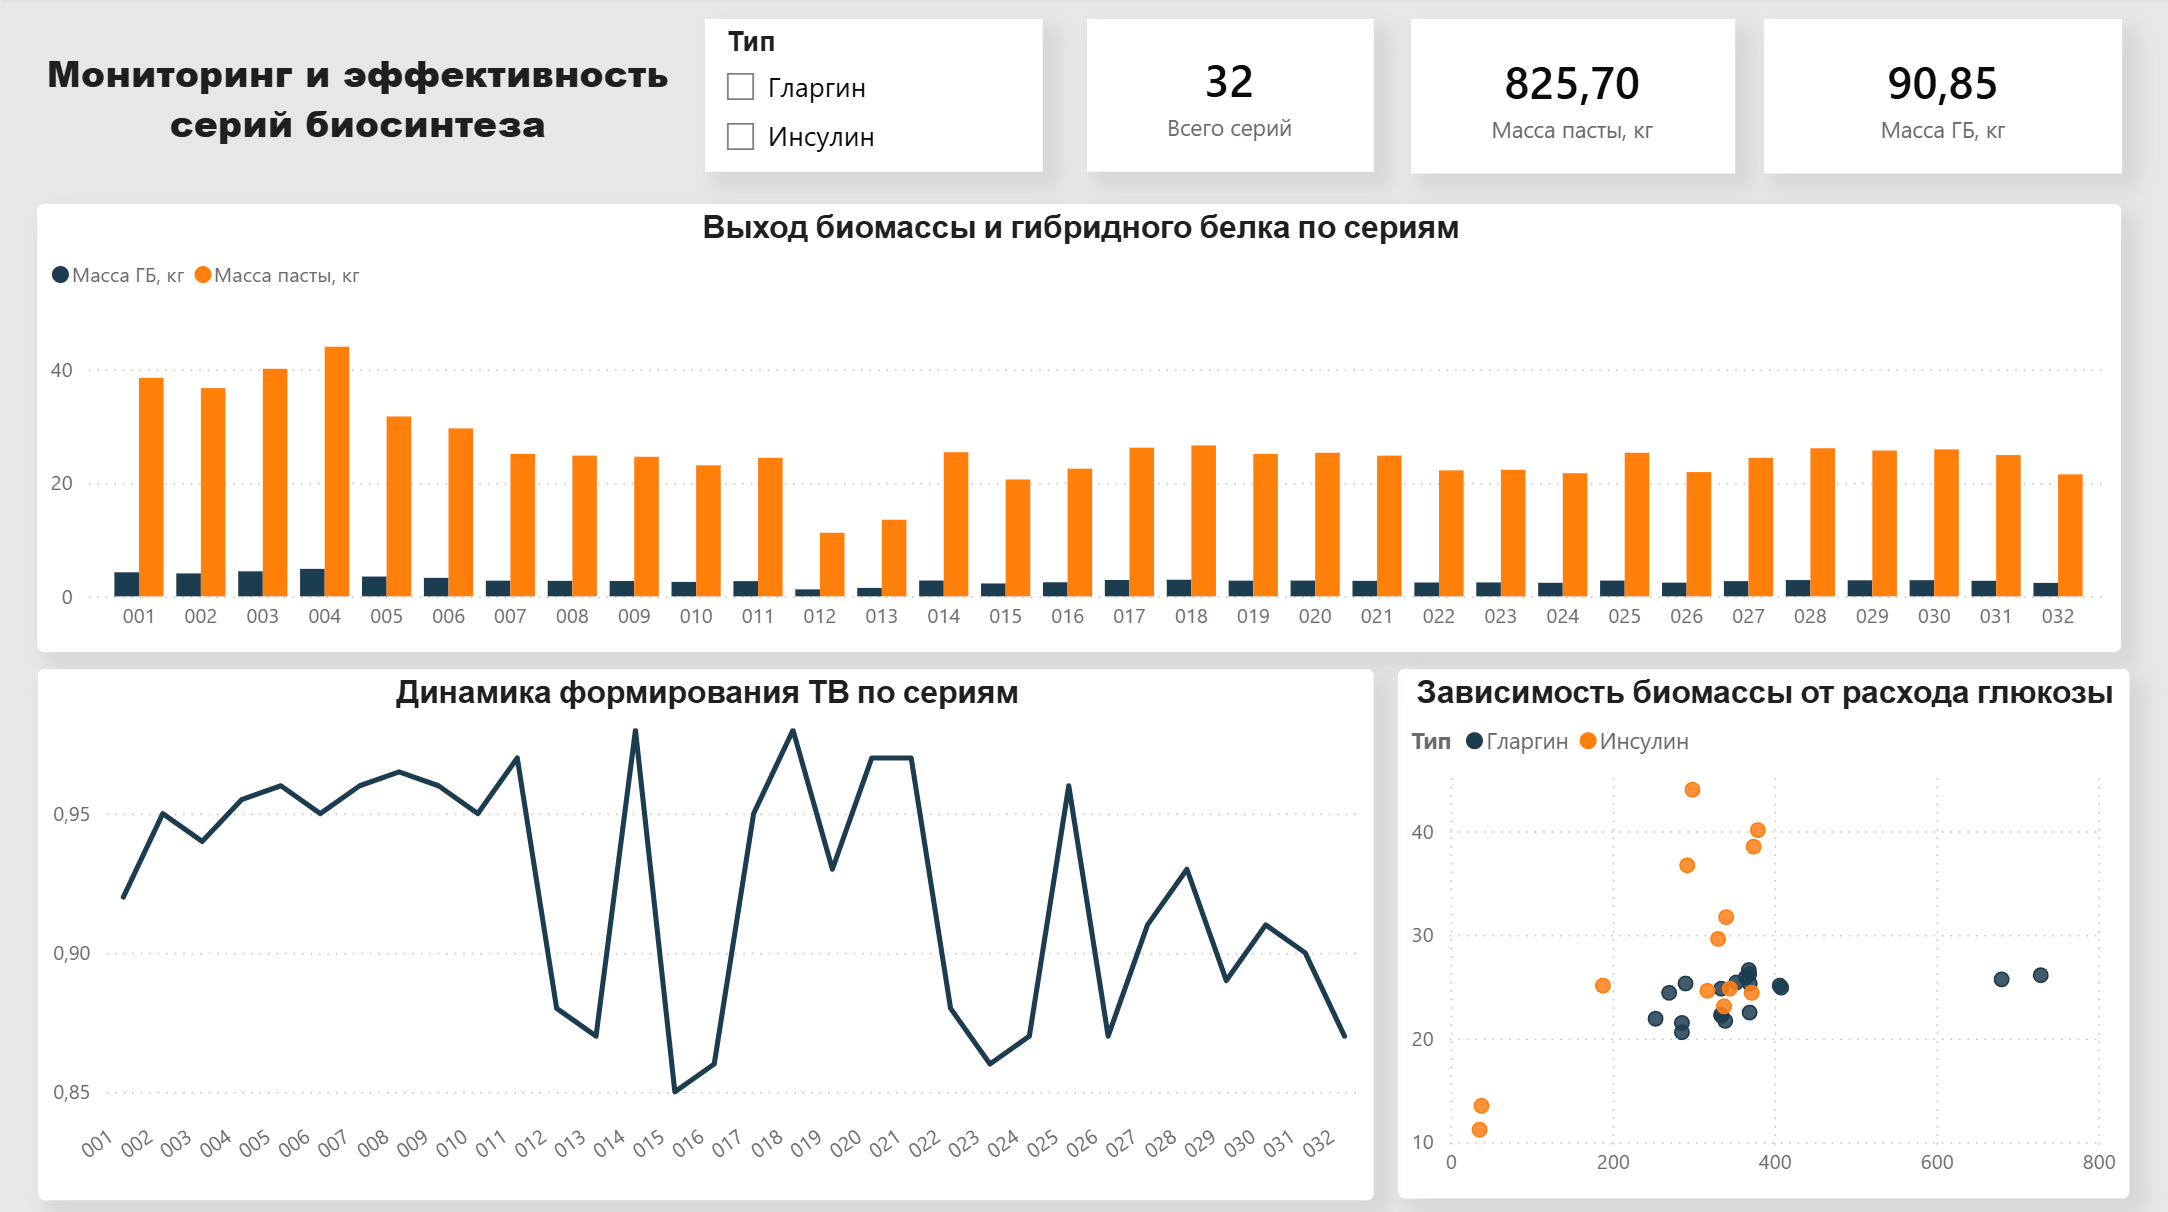

What the dashboard file says about the page in this screenshot:
{"tool":"powerbi","page":{"name":"Биосинтез","canvas":[1280,720],"ordinal":0},"visuals":[{"type":"slicer","fields":{"Values":["batch_summary_final.Тип"]},"box":[414.8,12.6,198.8,89.6],"z":0},{"type":"clusteredColumnChart","title":"Выход биомассы и гибридного белка по сериям","fields":{"Category":["batch_summary_final.Номер серии"],"Y":["Sum(batch_summary_final.вес ГБ, кг)","Sum(batch_summary_final.вес пасты, кг)"]},"box":[21.5,121.6,1228.1,264.2],"z":1000},{"type":"scatterChart","title":"Зависимость биомассы от расхода глюкозы","fields":{"X":["Sum(batch_summary_final.Всего_глюкозы_л)"],"Y":["Sum(batch_summary_final.вес пасты, кг)"],"Category":["batch_summary_final.№ Серии"],"Series":["batch_summary_final.Тип"]},"box":[823.2,395.6,430.6,312.1],"z":2000},{"type":"cardVisual","fields":{"Data":["Count(batch_summary_final.№ Серии)"]},"box":[640,12.6,168.9,89.6],"z":3000},{"type":"cardVisual","fields":{"Data":["Sum(batch_summary_final.вес пасты, кг)"]},"box":[830.7,12.6,190.7,90.8],"z":4000},{"type":"cardVisual","fields":{"Data":["Sum(batch_summary_final.вес ГБ, кг)"]},"box":[1038.7,12.6,211.4,90.8],"z":5000},{"type":"lineChart","title":"Динамика формирования ТВ по сериям","fields":{"Y":["Avg(batch_summary_final.Эффективность_ТВ)"],"Category":["batch_summary_final.Номер серии"]},"box":[21.8,395.3,787.1,312.5],"z":6000},{"type":"textbox","box":[21.8,24.1,376.9,88.5],"z":7000}]}

Visuals, with their boxes in screenshot pixels (x1, y1, x2, y2), scaled from the page's 1280x720 canvas onto the 2168x1212 screenshot:
slicer - batch_summary_final.Тип: {"left": 703, "top": 21, "right": 1039, "bottom": 172}
"Выход биомассы и гибридного белка по сериям" clusteredColumnChart: {"left": 36, "top": 205, "right": 2117, "bottom": 649}
"Зависимость биомассы от расхода глюкозы" scatterChart: {"left": 1394, "top": 666, "right": 2124, "bottom": 1191}
cardVisual - Count(batch_summary_final.№ Серии): {"left": 1084, "top": 21, "right": 1370, "bottom": 172}
cardVisual - Sum(batch_summary_final.вес пасты, кг): {"left": 1407, "top": 21, "right": 1730, "bottom": 174}
cardVisual - Sum(batch_summary_final.вес ГБ, кг): {"left": 1759, "top": 21, "right": 2117, "bottom": 174}
"Динамика формирования ТВ по сериям" lineChart: {"left": 37, "top": 665, "right": 1370, "bottom": 1191}
textbox: {"left": 37, "top": 41, "right": 675, "bottom": 190}
